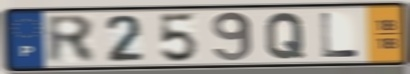2: (103, 14, 146, 63)
5: (157, 12, 200, 64)
9: (210, 11, 255, 63)
L: (318, 11, 361, 59)
Q: (263, 11, 307, 61)
R: (43, 14, 100, 66)
